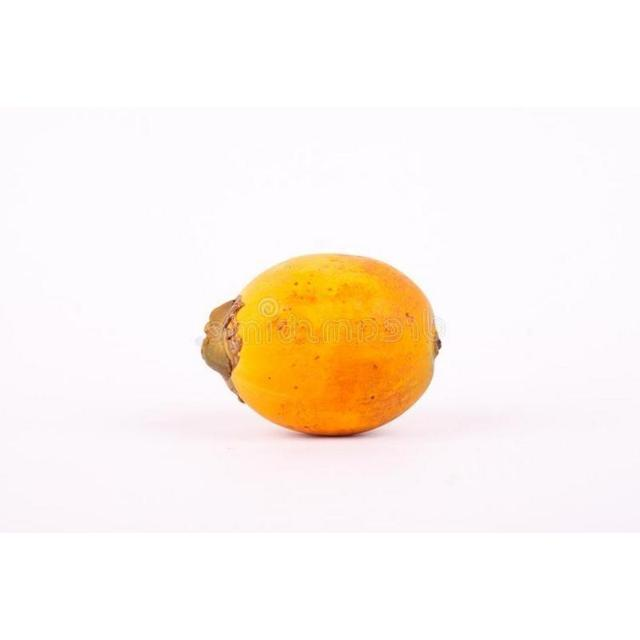good: (200, 253, 442, 438)
